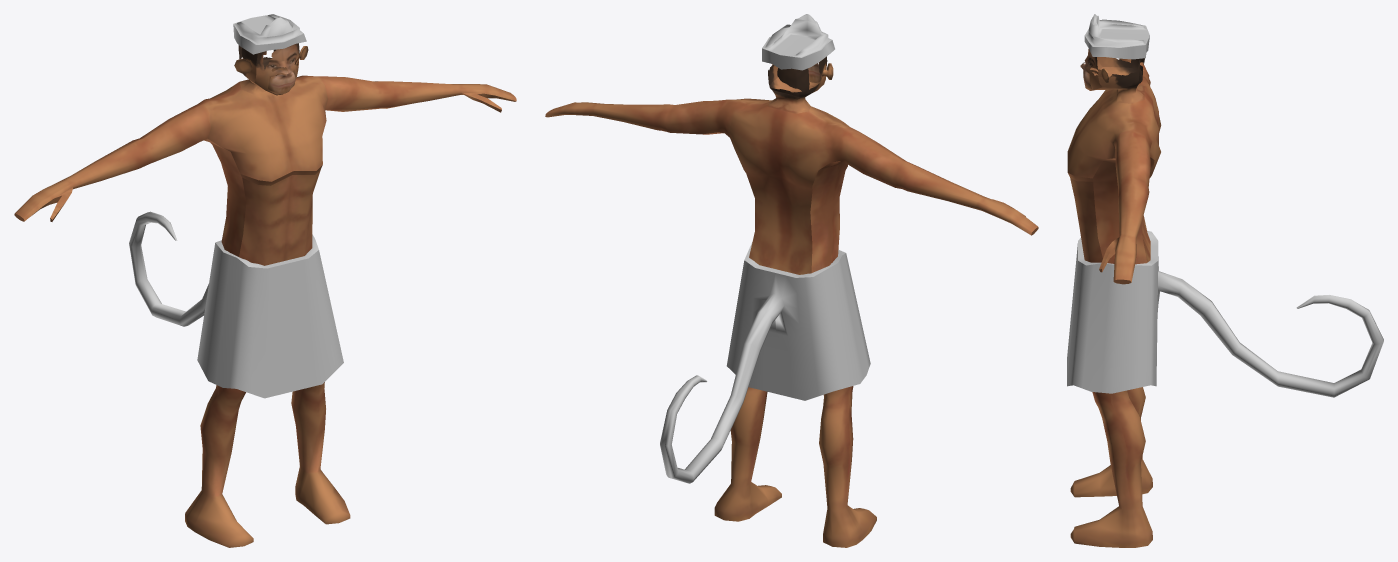
Rendered from f_hanuman_rq.fbx.
3 renders of one model, left to right at view 1: azimuth 30°, elevation 25°; view 2: azimuth 150°, elevation 25°; view 3: azimuth 270°, elevation 25°, orthographic.
Parts seen in each view (by area): view 1: f_hanuman.001 oskar.002; view 2: f_hanuman.001 oskar.002; view 3: f_hanuman.001 oskar.002.
Part boxes in pixels (x1,y1,x2,y2): f_hanuman.001 oskar.002: (14, 14, 516, 547); f_hanuman.001 oskar.002: (545, 14, 1038, 547); f_hanuman.001 oskar.002: (1067, 14, 1383, 547).
Bounding box in the file's own units: 320 × 314 × 181.
